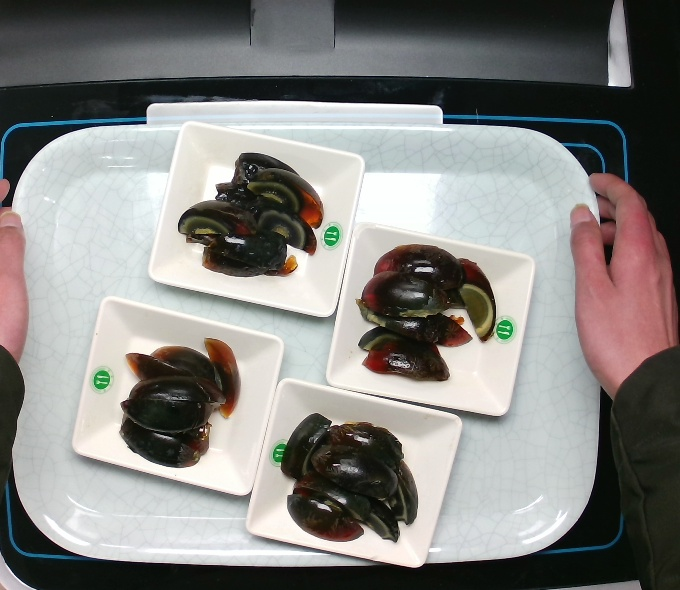wcq-PiDan: (344, 234, 505, 385), (173, 141, 329, 289), (271, 403, 424, 549), (108, 326, 247, 472)
